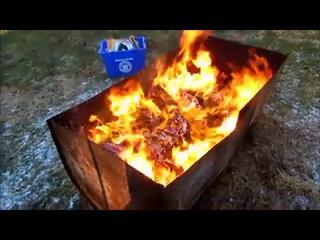fire: (96, 31, 270, 188)
